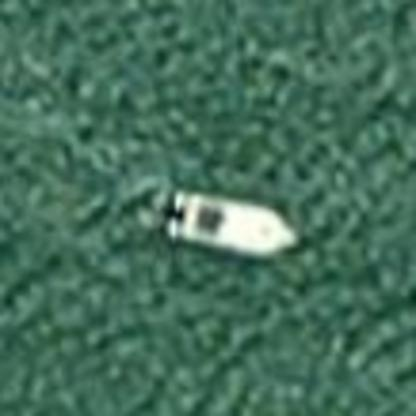ship: (158, 180, 302, 263)
